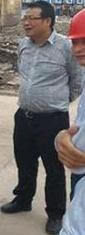boots: (0, 197, 32, 212), (0, 184, 12, 196)
gloves: (0, 65, 6, 86)
hard-hat: (0, 0, 38, 22)
